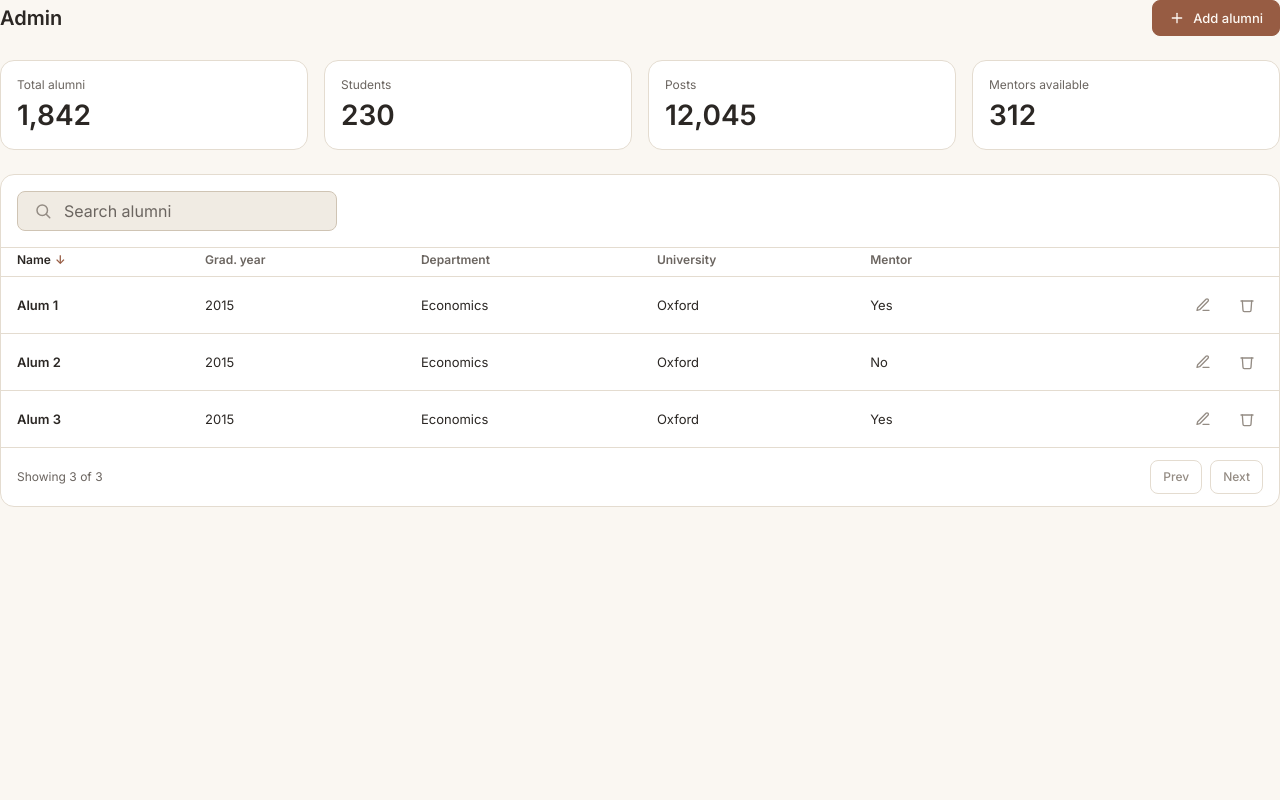
Test: DeleteAlumniDialog › stays open with the server’s message on a refusal, and can try again
Expected: the column heading "Alum 1" is shown, [1,276,189,334]
Click the button named "Delete Alum 2": click(1247, 362) [1231,346,1263,378]
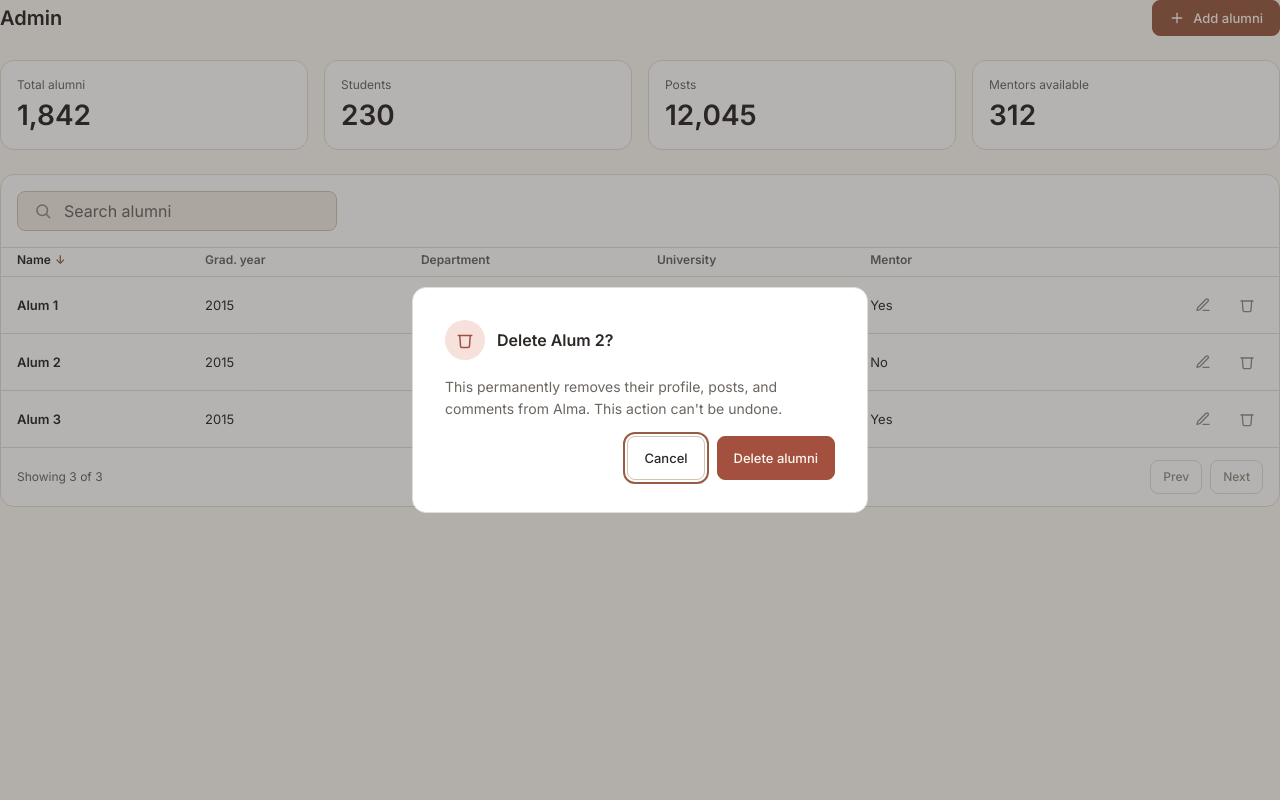
Click the button "Delete alumni": click(776, 458) [716,436,835,480]
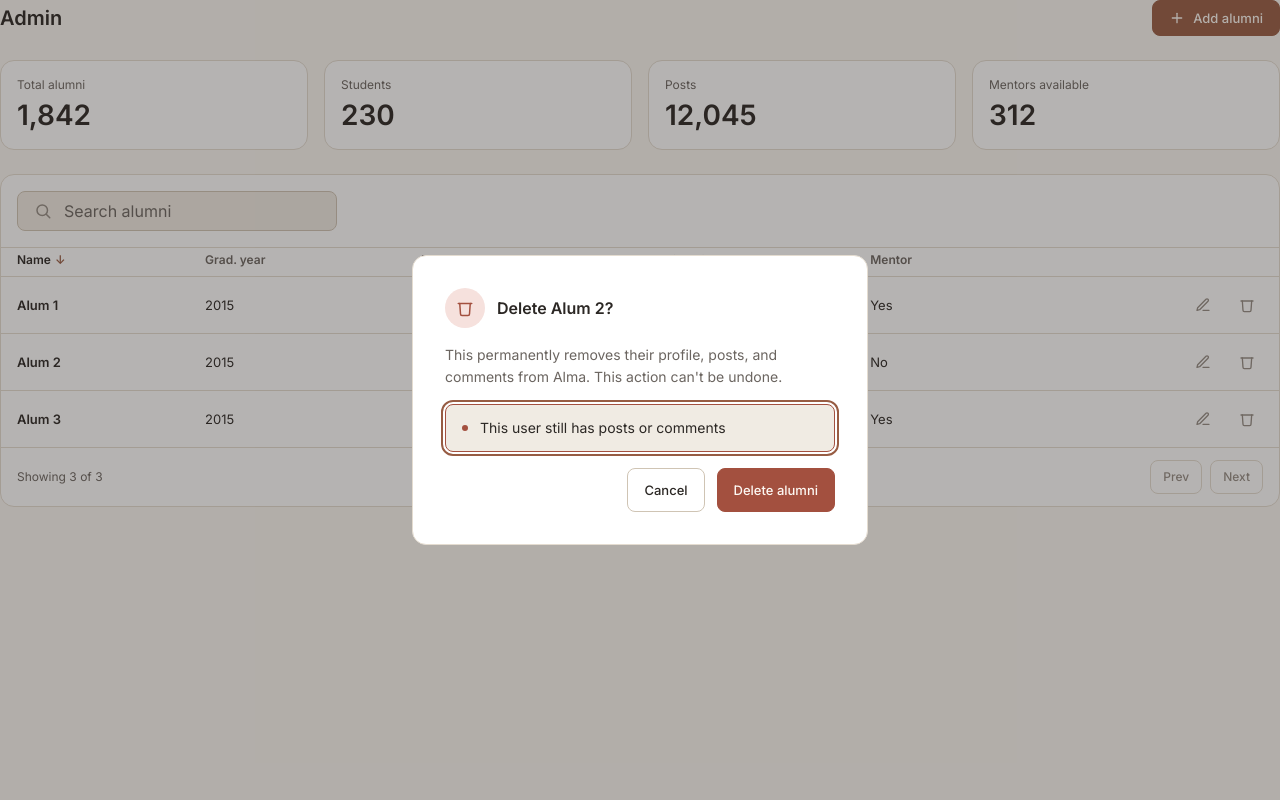
Expected: the button "Delete alumni" is enabled
Expected: the message reads "This user still has posts or comments", [480,419,726,436]
Click the button "Delete alumni": click(776, 490) [716,468,835,512]
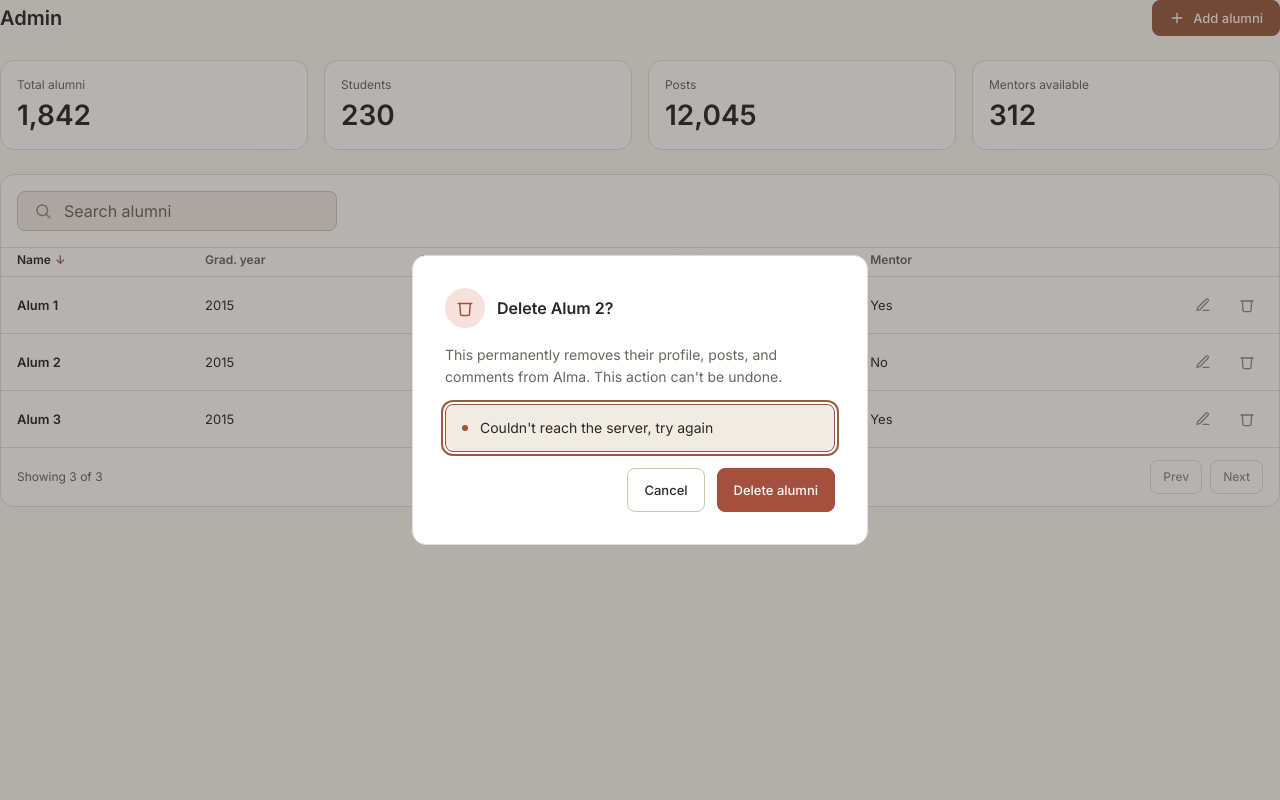
Expected: the dialog is shown, [412,255,868,545]
Expected: the message reads "Couldn't reach the server, try again", [480,419,713,436]
